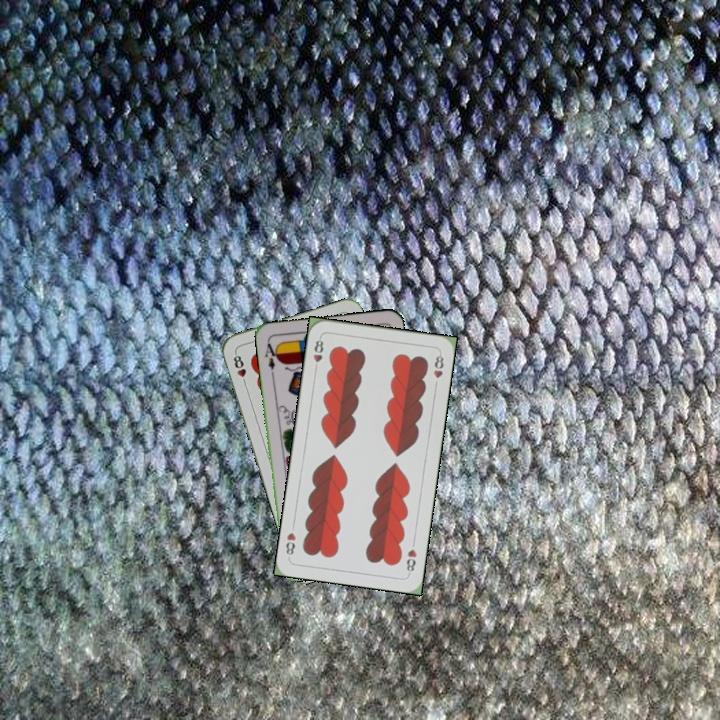EA: (261, 337, 281, 378)
H8: (229, 349, 250, 388), (309, 333, 326, 374), (402, 545, 419, 577)
